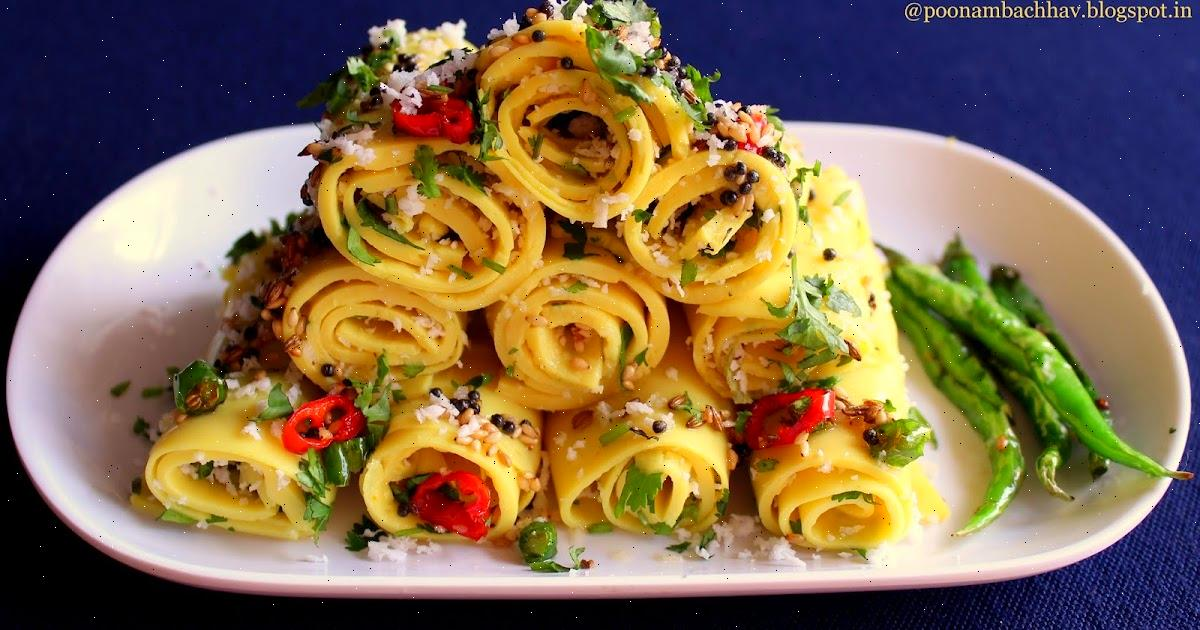khandvi: (173, 27, 935, 568)
